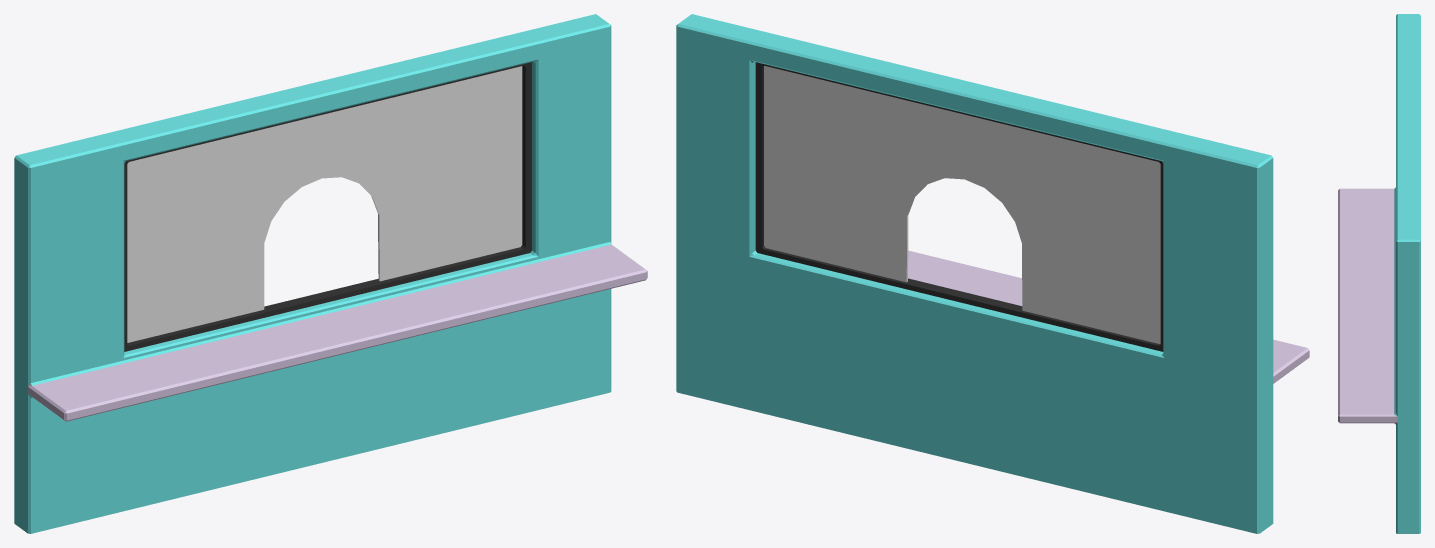
The model's file is FrontWall (1).fbx.
3 renders of one model, left to right at view 1: azimuth 30°, elevation 25°; view 2: azimuth 150°, elevation 25°; view 3: azimuth 270°, elevation 25°, orthographic. The views are drawn at different scales.
Visible parts, largest first — view 1: Plane; view 2: Plane; view 3: Plane.
Boxes of the visible parts, x1,y1,x2,y2 form: Plane: [14, 14, 647, 533]; Plane: [676, 14, 1309, 533]; Plane: [1338, 14, 1420, 533].
Size of the model in its own units: 314 by 189 by 48.35.
